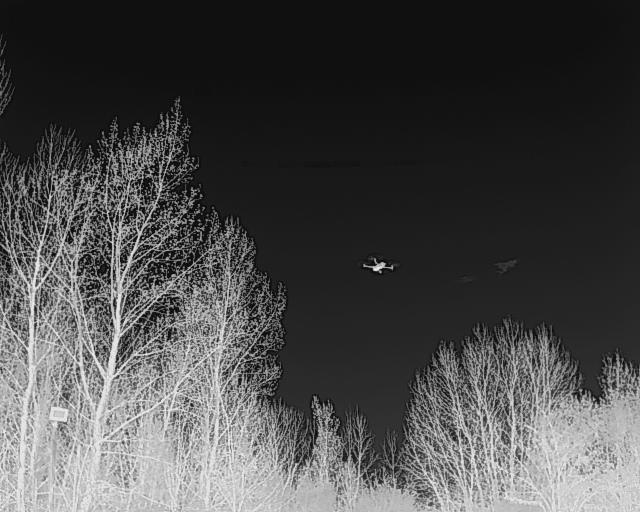drone: (357, 254, 400, 280)
